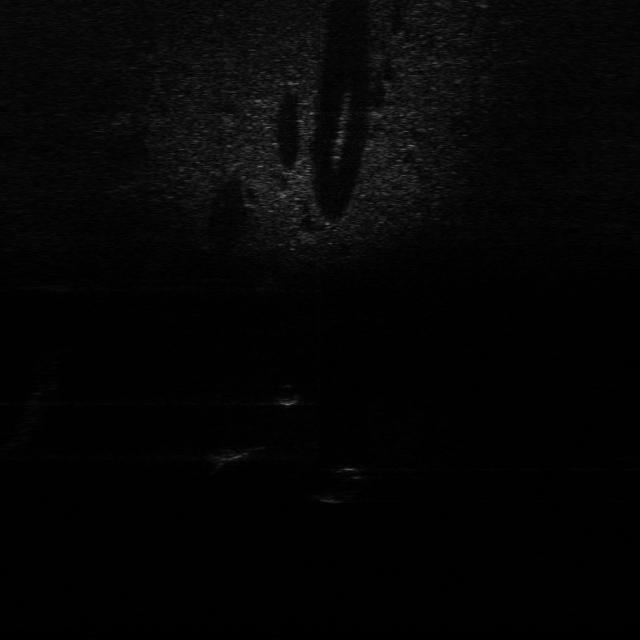ball: (273, 380, 306, 411)
square cage: (202, 440, 258, 470)
tyre: (312, 449, 377, 504)
